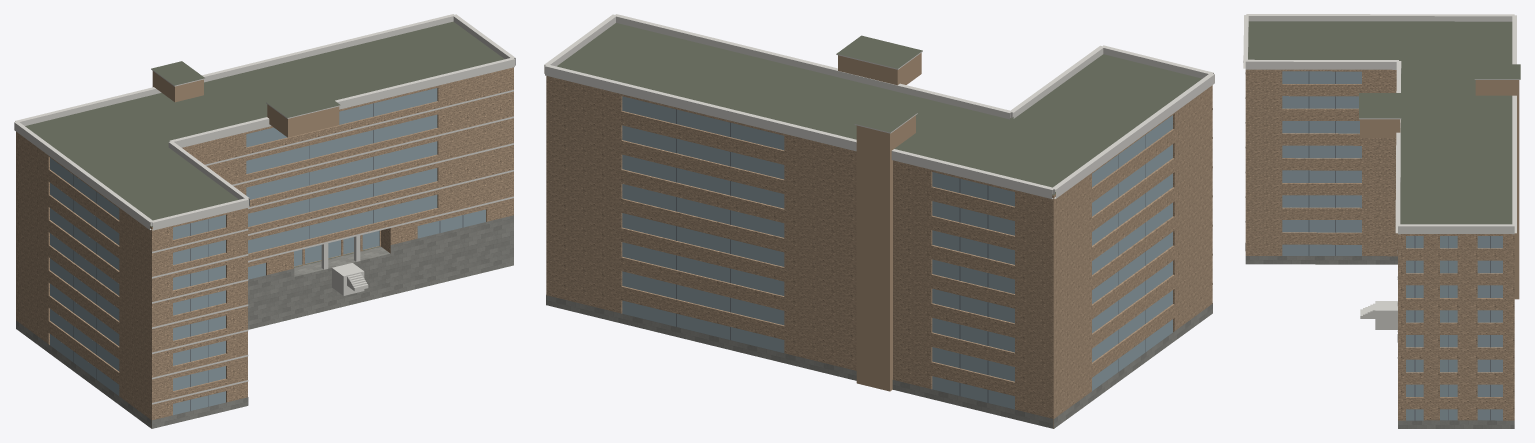
3 views of the same model, side by side, from view 1: azimuth 30°, elevation 25°; view 2: azimuth 150°, elevation 25°; view 3: azimuth 270°, elevation 25° (orthographic). The views are drawn at different scales.
Visible parts, largest first — view 1: b906__wall, b906__roof, b906__glass, b906__trim, b906__base, b906__wall2, b906__entranceStair, b906__frame; view 2: b906__wall, b906__glass, b906__roof, b906__trim, b906__wall2, b906__base, b906__frame; view 3: b906__wall, b906__roof, b906__glass, b906__trim, b906__base, b906__wall2, b906__entranceStair, b906__frame.
Part boxes in pixels (x1,y1,x2,y2): b906__wall: (16, 67, 513, 428); b906__roof: (25, 21, 513, 328); b906__glass: (50, 88, 485, 415); b906__trim: (14, 14, 515, 404); b906__base: (16, 215, 513, 428); b906__wall2: (152, 71, 339, 137); b906__entranceStair: (332, 263, 368, 295); b906__frame: (73, 103, 463, 410); b906__wall: (546, 76, 1212, 428); b906__glass: (622, 96, 1172, 409); b906__roof: (557, 23, 1201, 195); b906__trim: (544, 14, 1214, 284); b906__wall2: (838, 53, 921, 391); b906__base: (546, 295, 1212, 428); b906__frame: (676, 109, 1145, 402); b906__wall: (1245, 69, 1514, 420); b906__roof: (1248, 21, 1520, 264); b906__glass: (1282, 71, 1502, 420); b906__trim: (1243, 14, 1520, 358); b906__base: (1245, 243, 1514, 428); b906__wall2: (1360, 80, 1519, 299); b906__entranceStair: (1360, 301, 1397, 329); b906__frame: (1308, 71, 1490, 420).
Bounding box in the file's own units: 64.38 × 31.17 × 35.51.
10 materials, 2 textured.
